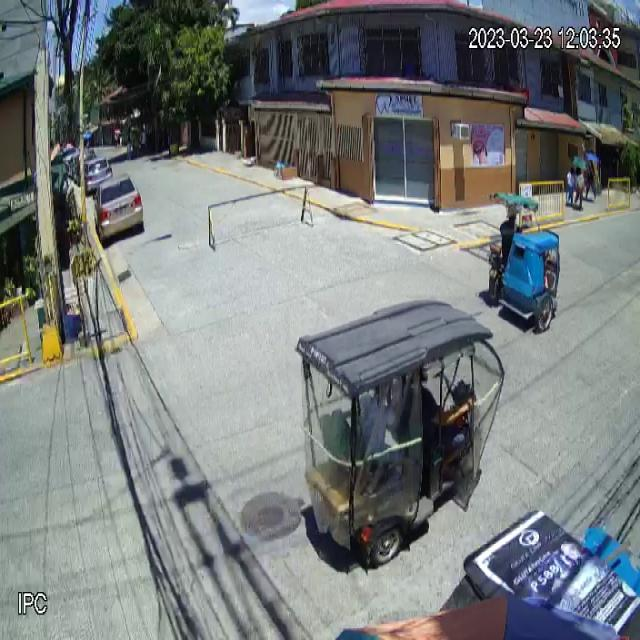Tricycle: (484, 189, 561, 333)
